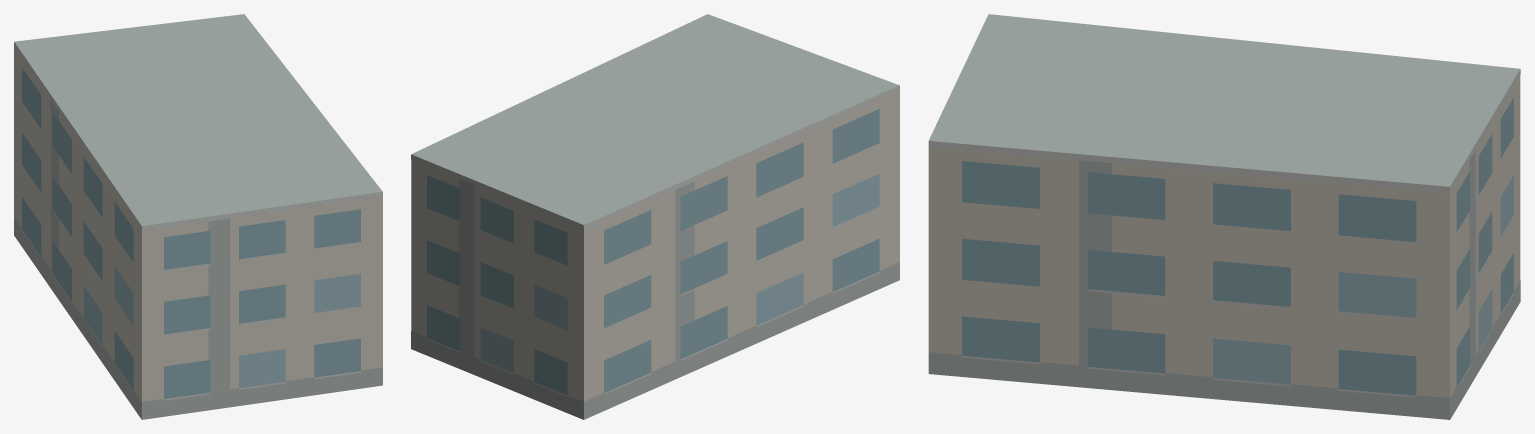
File: survey-upis-32527871.glb
3 renders of one model, left to right at view 1: azimuth 30°, elevation 25°; view 2: azimuth 150°, elevation 25°; view 3: azimuth 270°, elevation 25°, orthographic. The views are drawn at different scales.
Parts seen in each view (by area): view 1: survey-upis-32527871.tmp; view 2: survey-upis-32527871.tmp; view 3: survey-upis-32527871.tmp.
Boxes of the visible parts, x1,y1,x2,y2 form: survey-upis-32527871.tmp: [14, 14, 382, 419]; survey-upis-32527871.tmp: [411, 14, 899, 419]; survey-upis-32527871.tmp: [928, 14, 1520, 419].
Bounding box in the file's own units: 14.56 × 9.15 × 21.07.
